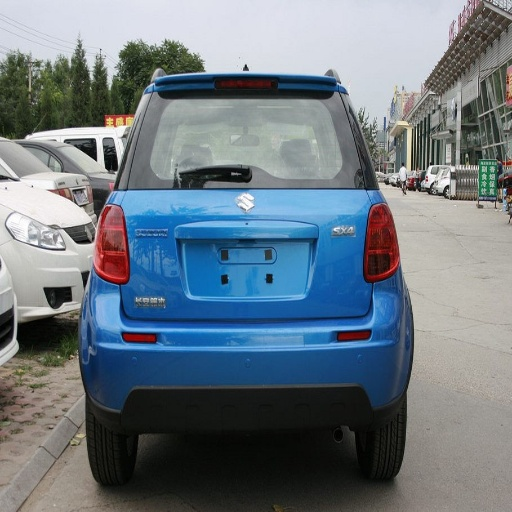back_bumper: (87, 272, 411, 432)
back_right_light: (364, 204, 399, 282)
tailgate: (128, 182, 368, 321)
trunk: (115, 192, 346, 322)
